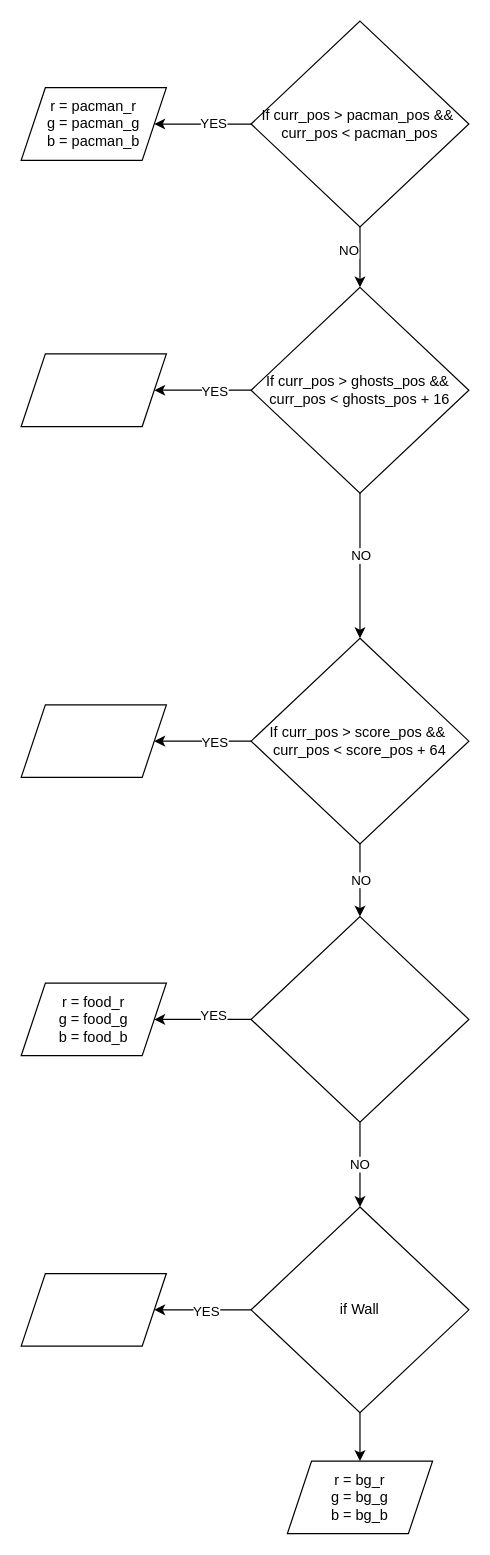
Some shapes in this 490 by 1555 pixel diagram are drawn without their labels. The shapes that lost their labels are listed below. From the top down, each one's centre as x and y in pixels, then its label:
pixel 93 390: r = ghosts_r g = ghosts_g b = ghosts_b
pixel 93 740: r = score_r g = score_g b = score_b
pixel 359 1018: if food
pixel 93 1309: r = wall_r g = wall_g b = wall_b
